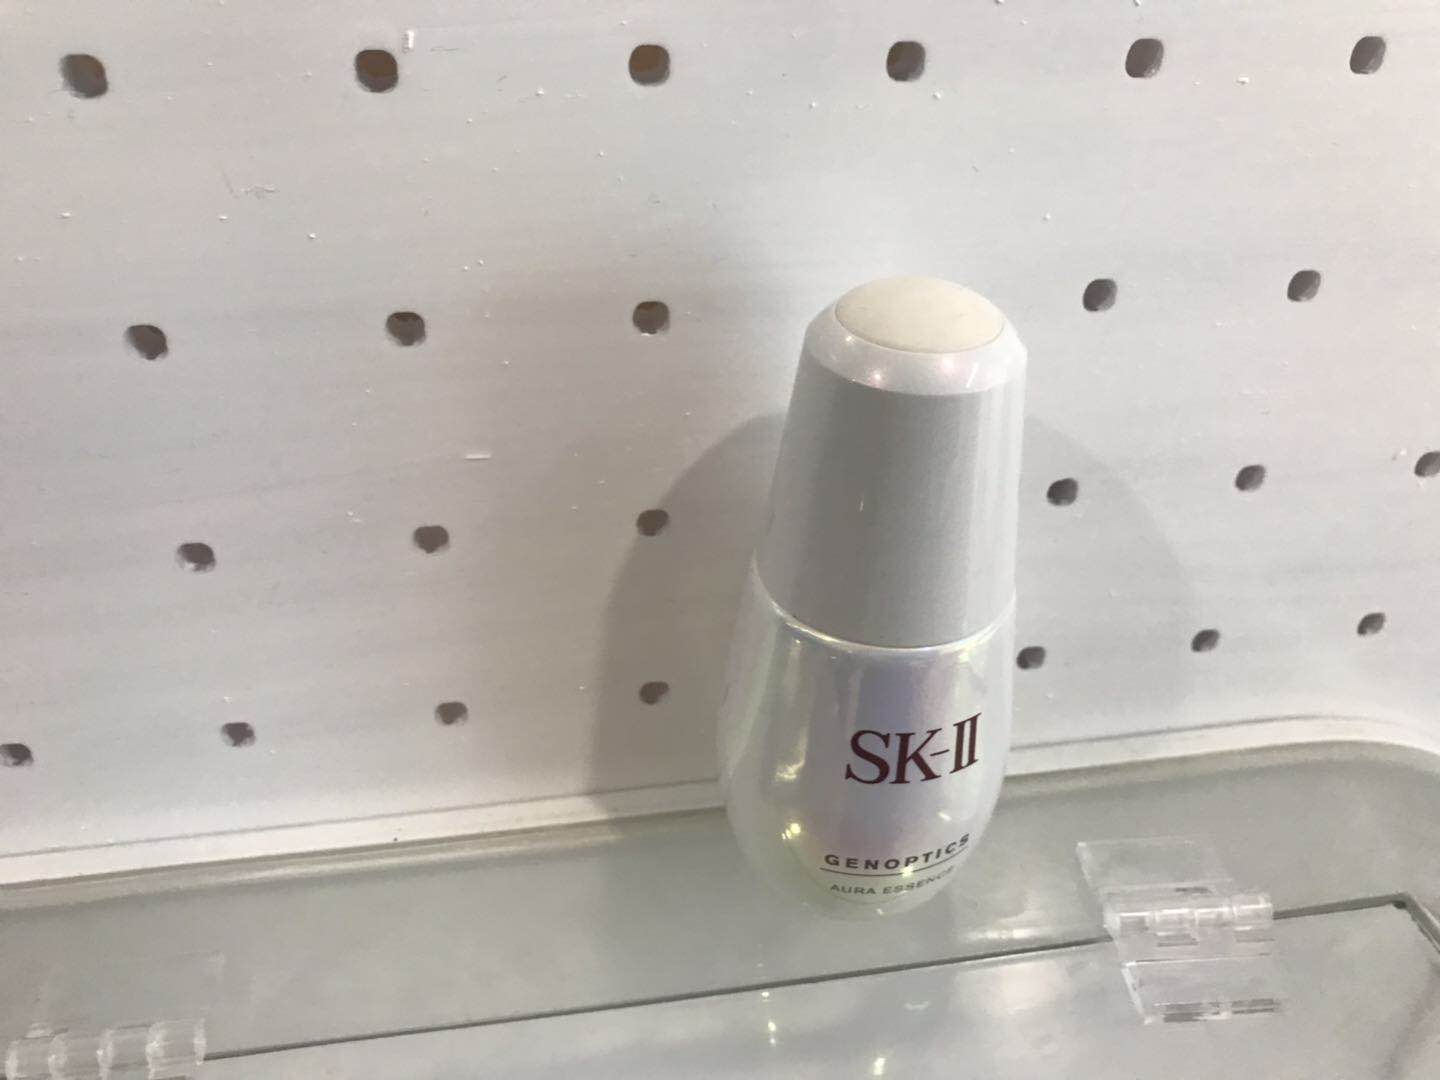sk2: (706, 256, 1053, 939)
